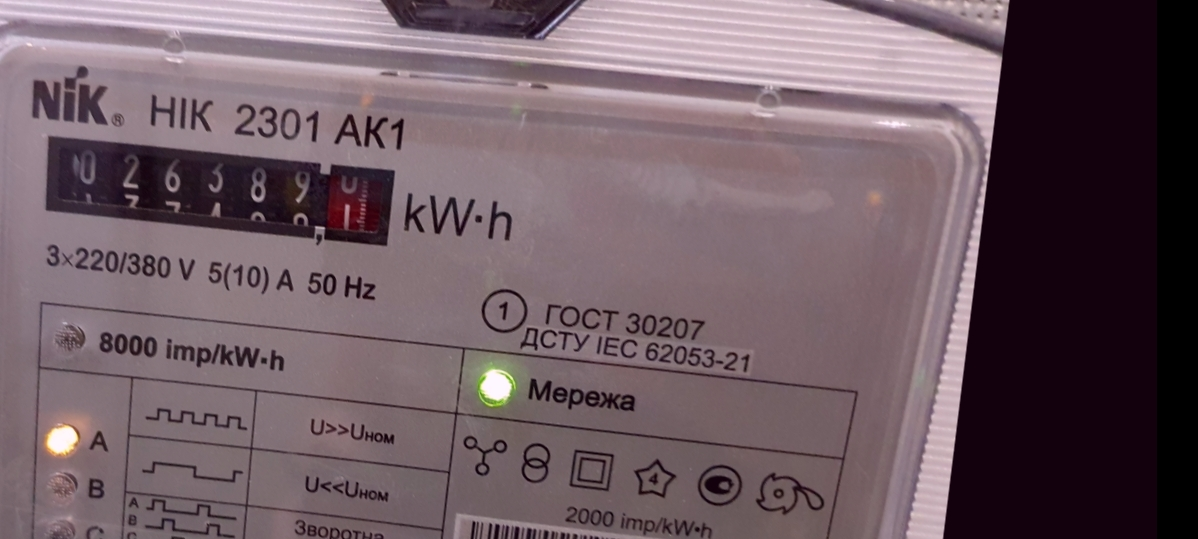0: (75, 145, 103, 187), (340, 172, 360, 195)
1: (339, 199, 356, 232)
2: (119, 150, 147, 191)
3: (206, 159, 227, 196)
6: (163, 154, 186, 195)
8: (248, 164, 273, 204)
9: (291, 168, 313, 204)
screen: (25, 114, 414, 265)
